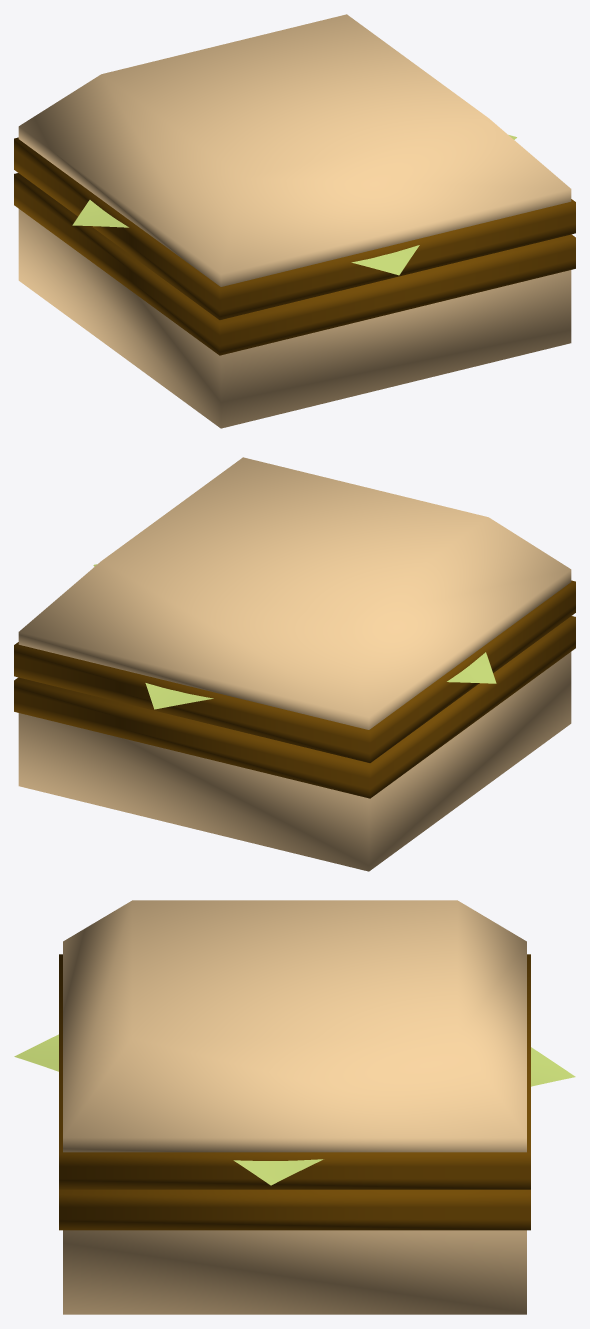
File: burger.glb
3 views of the same model, one above another, from view 1: azimuth 30°, elevation 25°; view 2: azimuth 150°, elevation 25°; view 3: azimuth 270°, elevation 25° (orthographic). The views are drawn at different scales.
Parts seen in each view (by area): view 1: Cube.003, Cube, Cube.001, Cube.002, Plane.001; view 2: Cube.003, Cube, Cube.001, Cube.002, Plane.001; view 3: Cube.003, Cube, Cube.001, Cube.002, Plane.001.
Boxes of the visible parts, left/top/right/bottom form: Cube.003: left=18, top=14, right=571, bottom=286; Cube: left=18, top=209, right=571, bottom=428; Cube.001: left=14, top=173, right=575, bottom=355; Cube.002: left=14, top=137, right=575, bottom=319; Plane.001: left=72, top=135, right=516, bottom=275; Cube.003: left=18, top=457, right=571, bottom=729; Cube: left=18, top=652, right=571, bottom=871; Cube.001: left=14, top=616, right=575, bottom=798; Cube.002: left=14, top=580, right=575, bottom=762; Plane.001: left=93, top=564, right=496, bottom=709; Cube.003: left=63, top=900, right=526, bottom=1152; Cube: left=63, top=1230, right=526, bottom=1314; Cube.001: left=59, top=1189, right=530, bottom=1230; Cube.002: left=59, top=954, right=530, bottom=1189; Plane.001: left=14, top=1034, right=575, bottom=1185.
Bounding box in the file's own units: 9.62 × 4.67 × 9.62.
